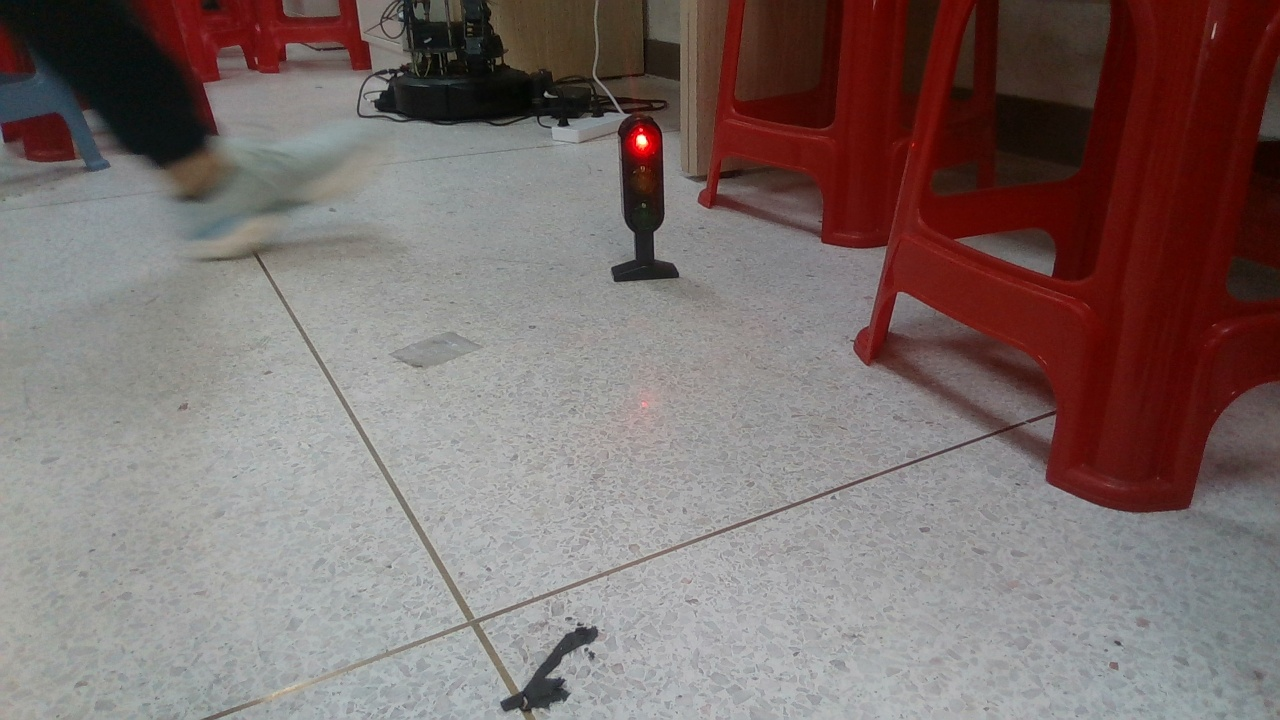Red traffic light: (601, 115, 684, 291)
